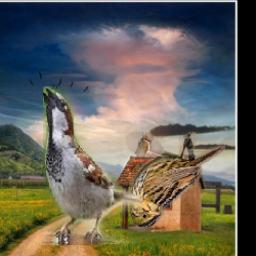Sparrow: (44, 87, 143, 246), (127, 133, 226, 229)
